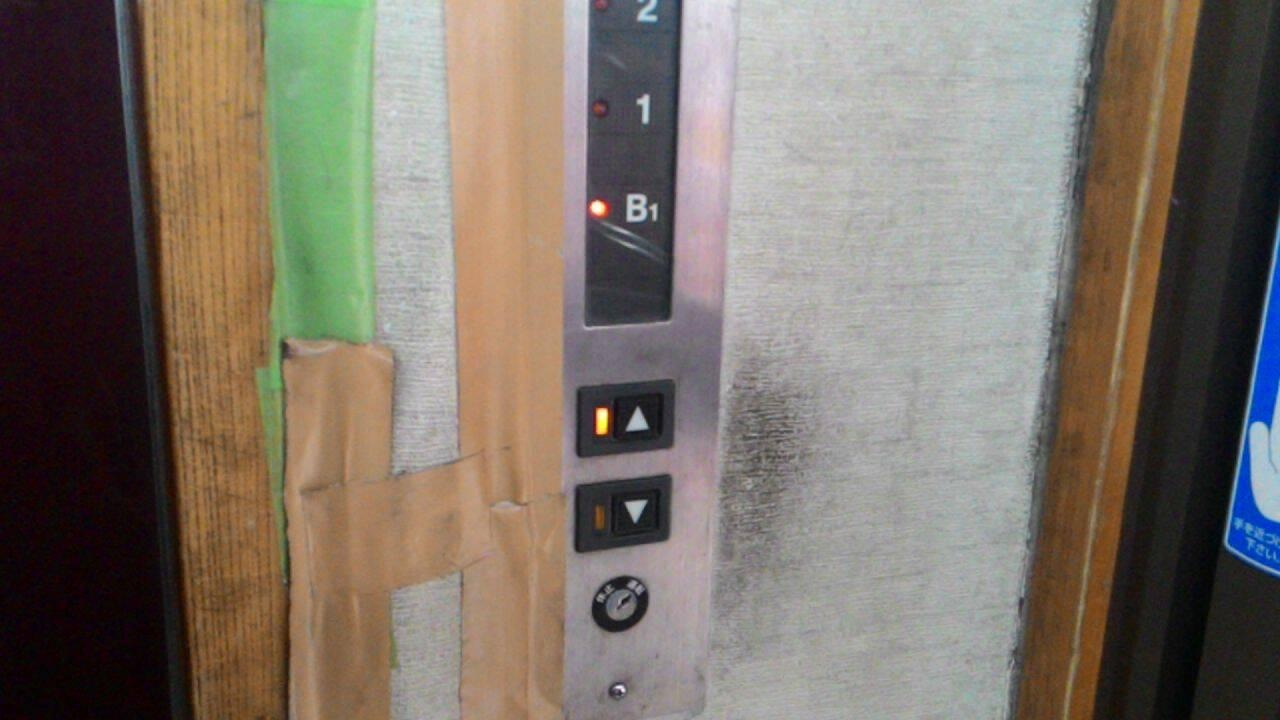down: (569, 469, 677, 555)
keyhole: (592, 576, 649, 632)
up: (572, 374, 678, 460)
